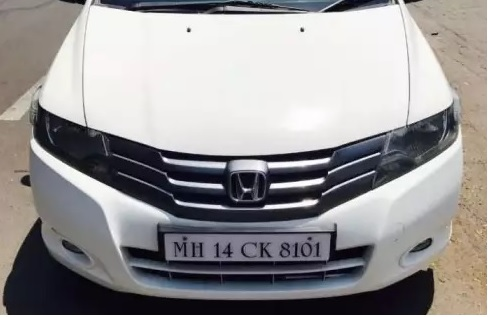licenseplate: (158, 228, 335, 267)
